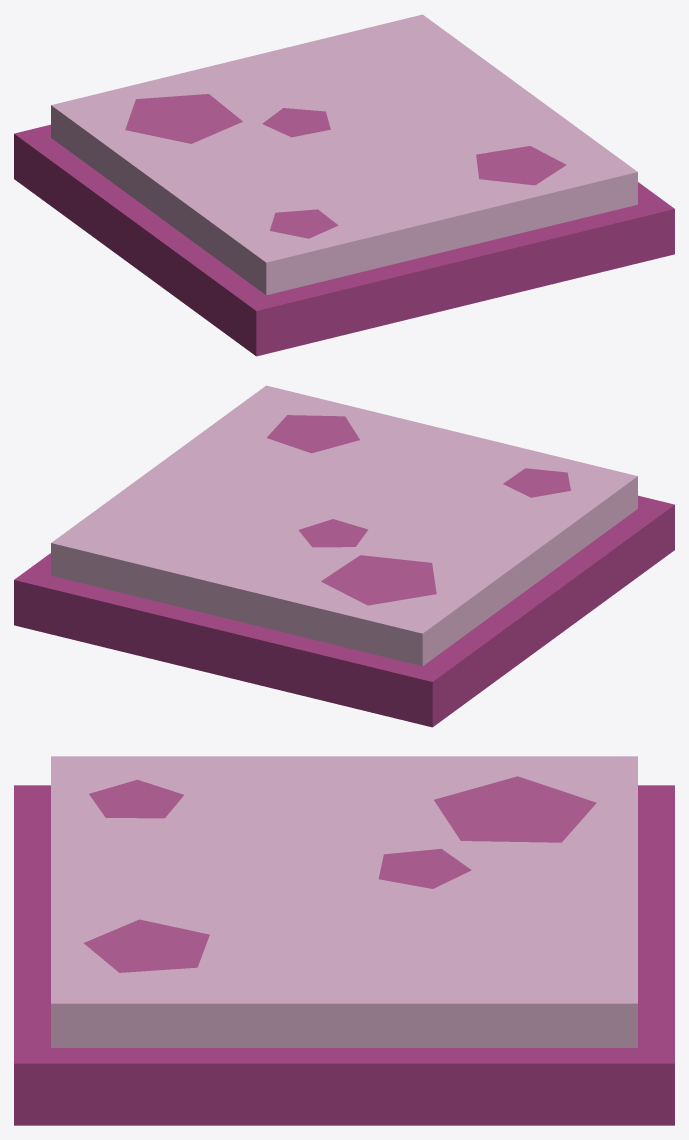
Rendered from Bard_Platform.fbx.
3 renders of one model, top to bottom at view 1: azimuth 30°, elevation 25°; view 2: azimuth 150°, elevation 25°; view 3: azimuth 270°, elevation 25°, orthographic. The views are drawn at different scales.
Parts seen in each view (by area): view 1: Bard_Platform_Geo; view 2: Bard_Platform_Geo; view 3: Bard_Platform_Geo.
Part boxes in pixels (x1,y1,x2,y2): Bard_Platform_Geo: [14, 14, 674, 356]; Bard_Platform_Geo: [14, 385, 674, 727]; Bard_Platform_Geo: [14, 756, 674, 1125].
Bounding box in the file's own units: 250 × 44.57 × 251.
